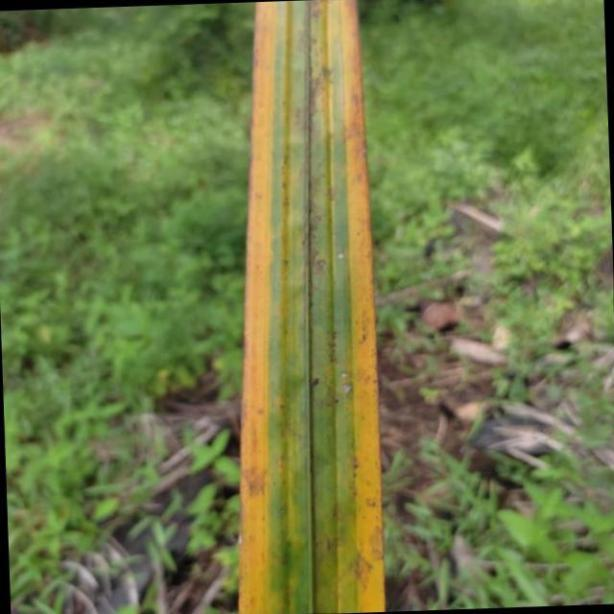Megnesium: (238, 0, 382, 614)
